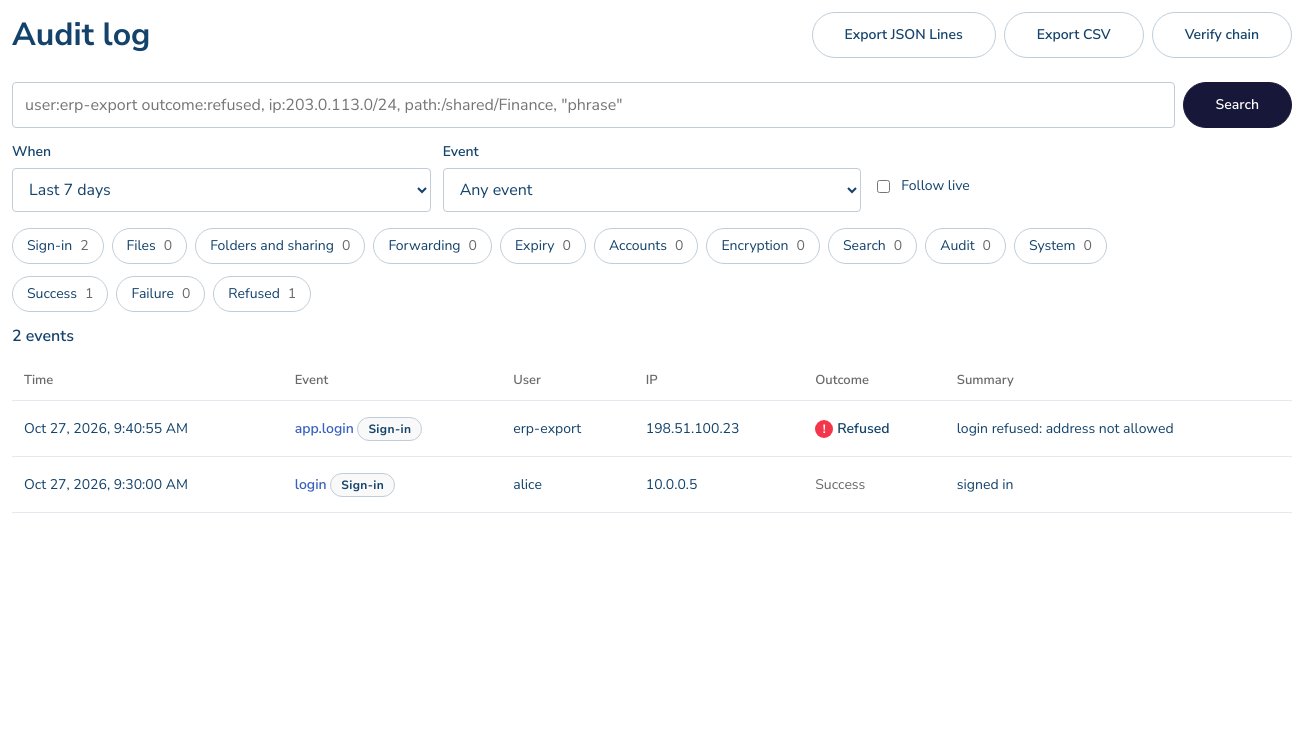
Test: audit log page › lists events with facet counts and searches with the field syntax
Check: the text "Refused" is shown, box top-left (837, 418), bottom-right (890, 438)
Check: the button "Sign-in 2" is shown, box top-left (12, 228), bottom-right (104, 264)
Step 1. Replace the text in the search field named "Search the audit log" with "user:erp-export outcome:refused" → (593, 105), box top-left (12, 82), bottom-right (1174, 128)
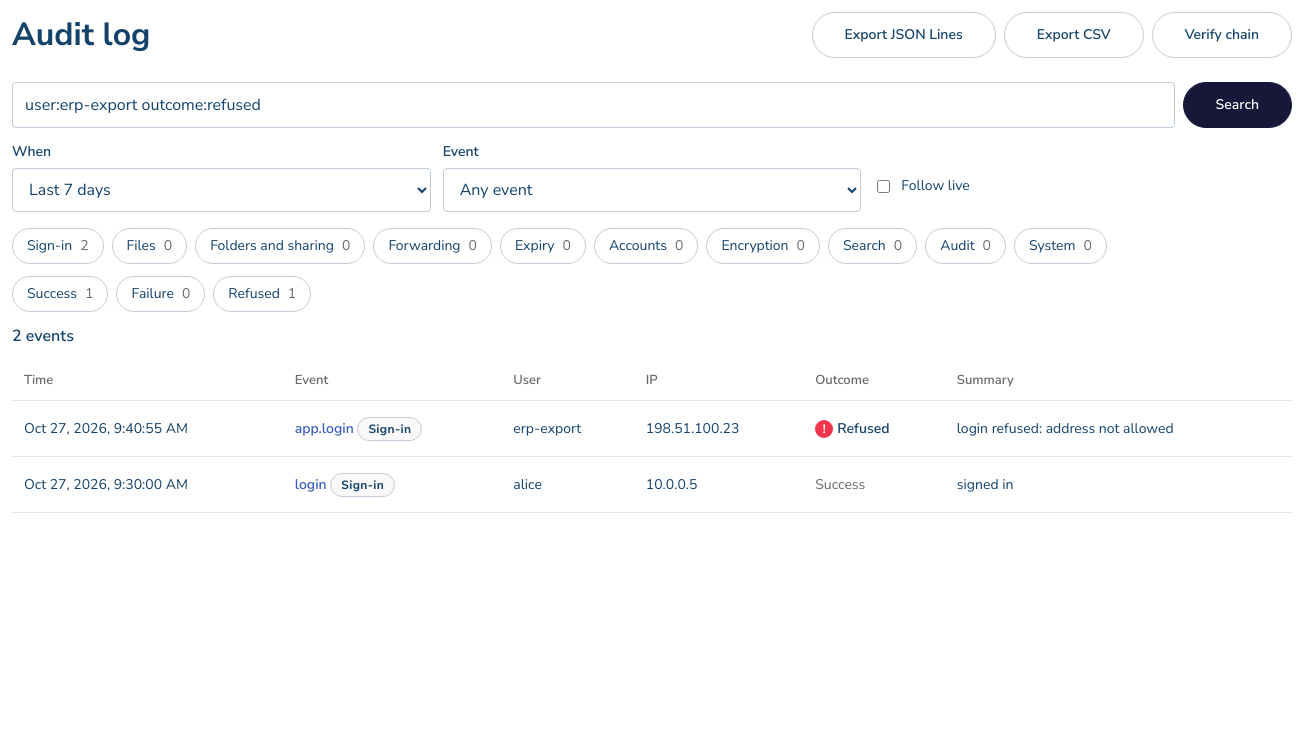
Step 2. Click the button "Search" → (1237, 105), box top-left (1182, 82), bottom-right (1292, 128)
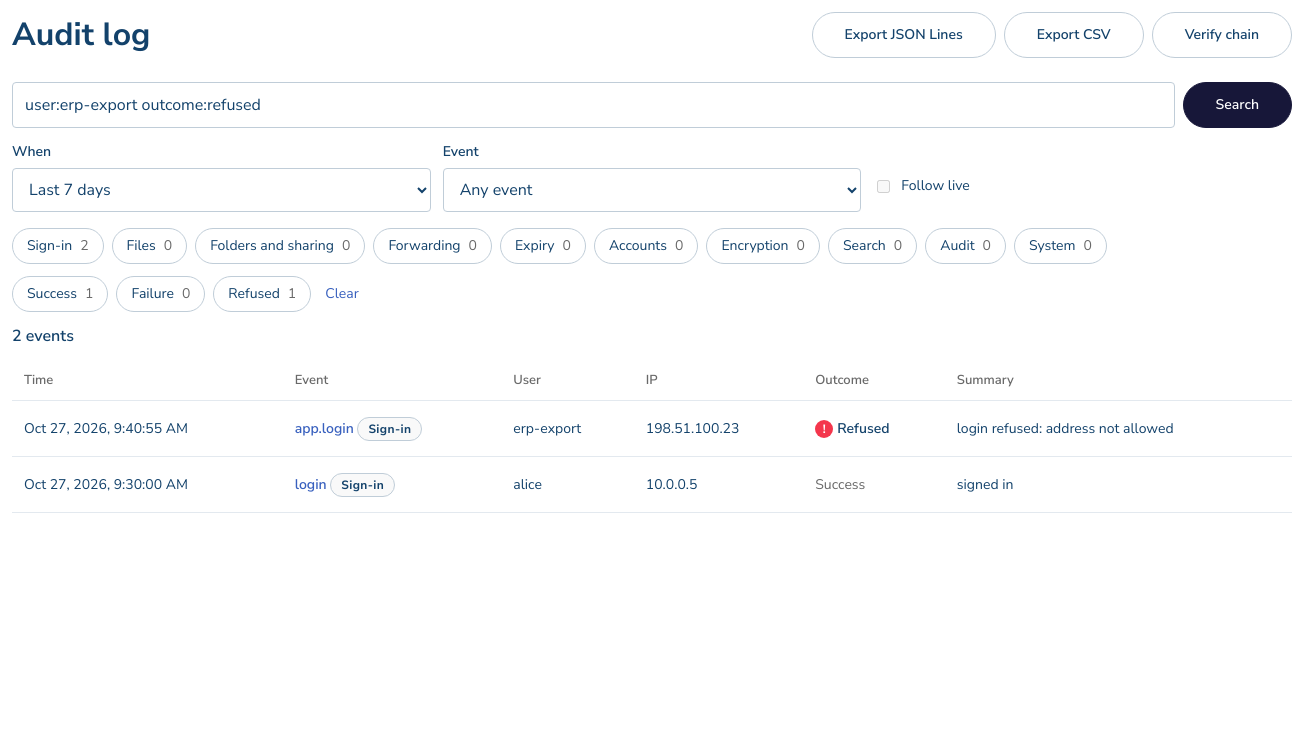
Check: the checkbox labelled "Follow live" is disabled, box top-left (877, 180), bottom-right (890, 192)
